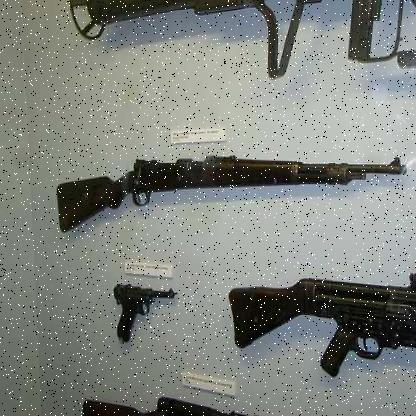rifle: (53, 104, 412, 251), (221, 268, 415, 388)
